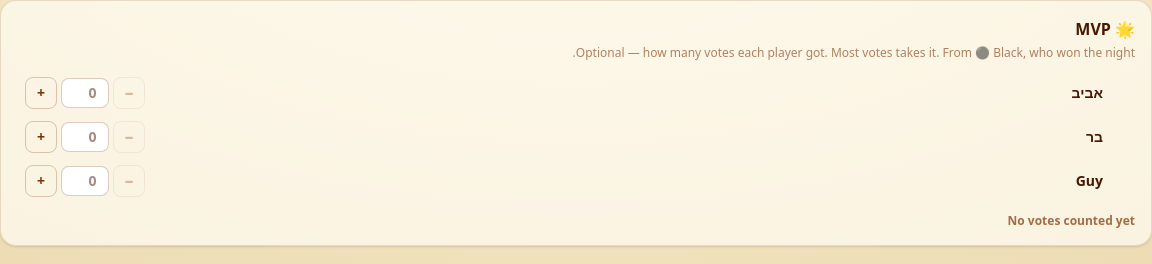
Test: MvpPicker › refuses to pick anybody while the vote is level
Click the button "+" in the row of "אביב" at [41, 93], box [25,77,57,109]
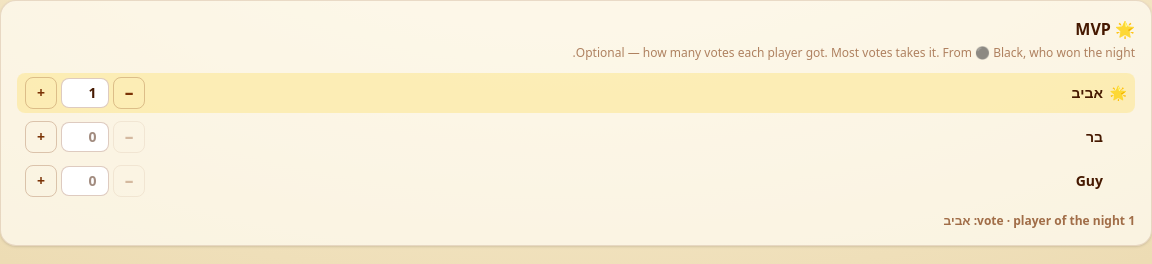
Click the button "+" in the row of "בר" at [41, 137], box [25,121,57,153]
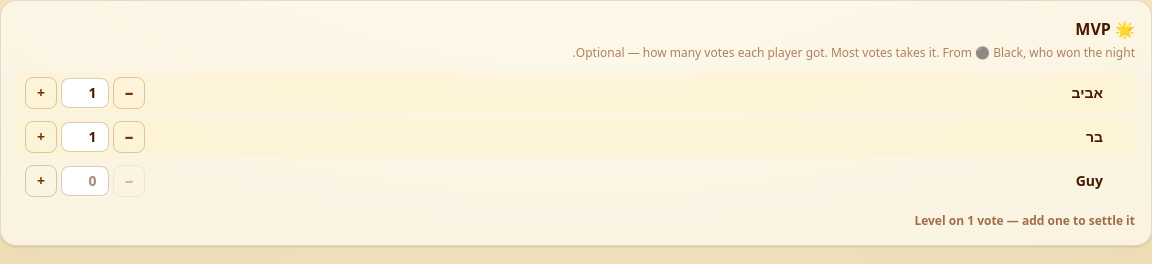
Expected: the text "Level on 1 vote — add one to settle it" is shown, [914,212,1135,229]
Expected: the text "player of the night:" is gone
Note: and one more hand settles it
Click the button "+" in the row of "בר" at [41, 137], box [25,121,57,153]
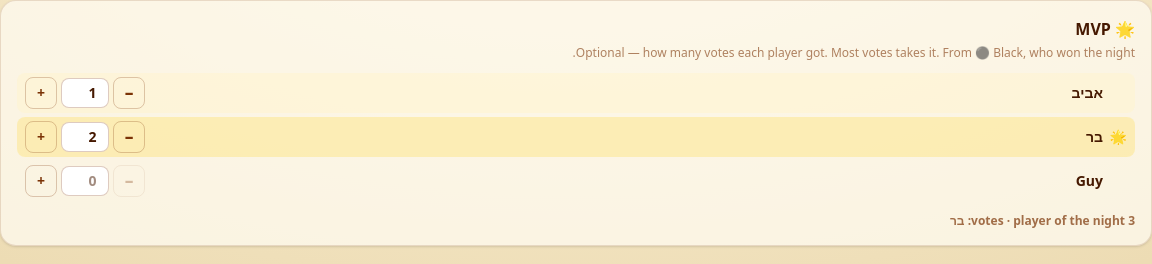
Expected: the text "3 votes · player of the night: בר" is shown, [950,212,1135,229]
